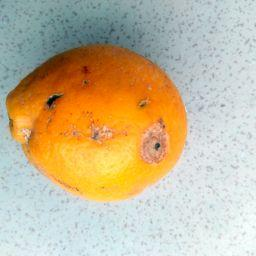Unripe: (6, 46, 189, 199)
